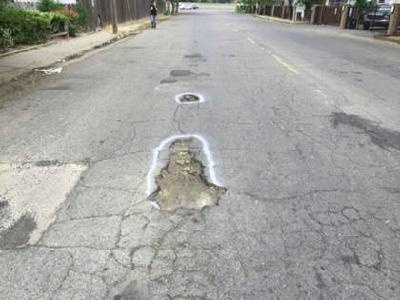pothole: (146, 136, 223, 212), (176, 90, 199, 102)
